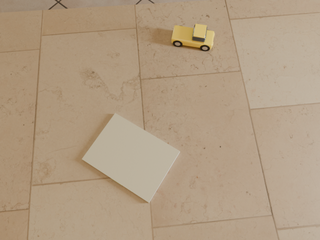book: (82, 113, 180, 203)
toy_car: (172, 24, 214, 51)
